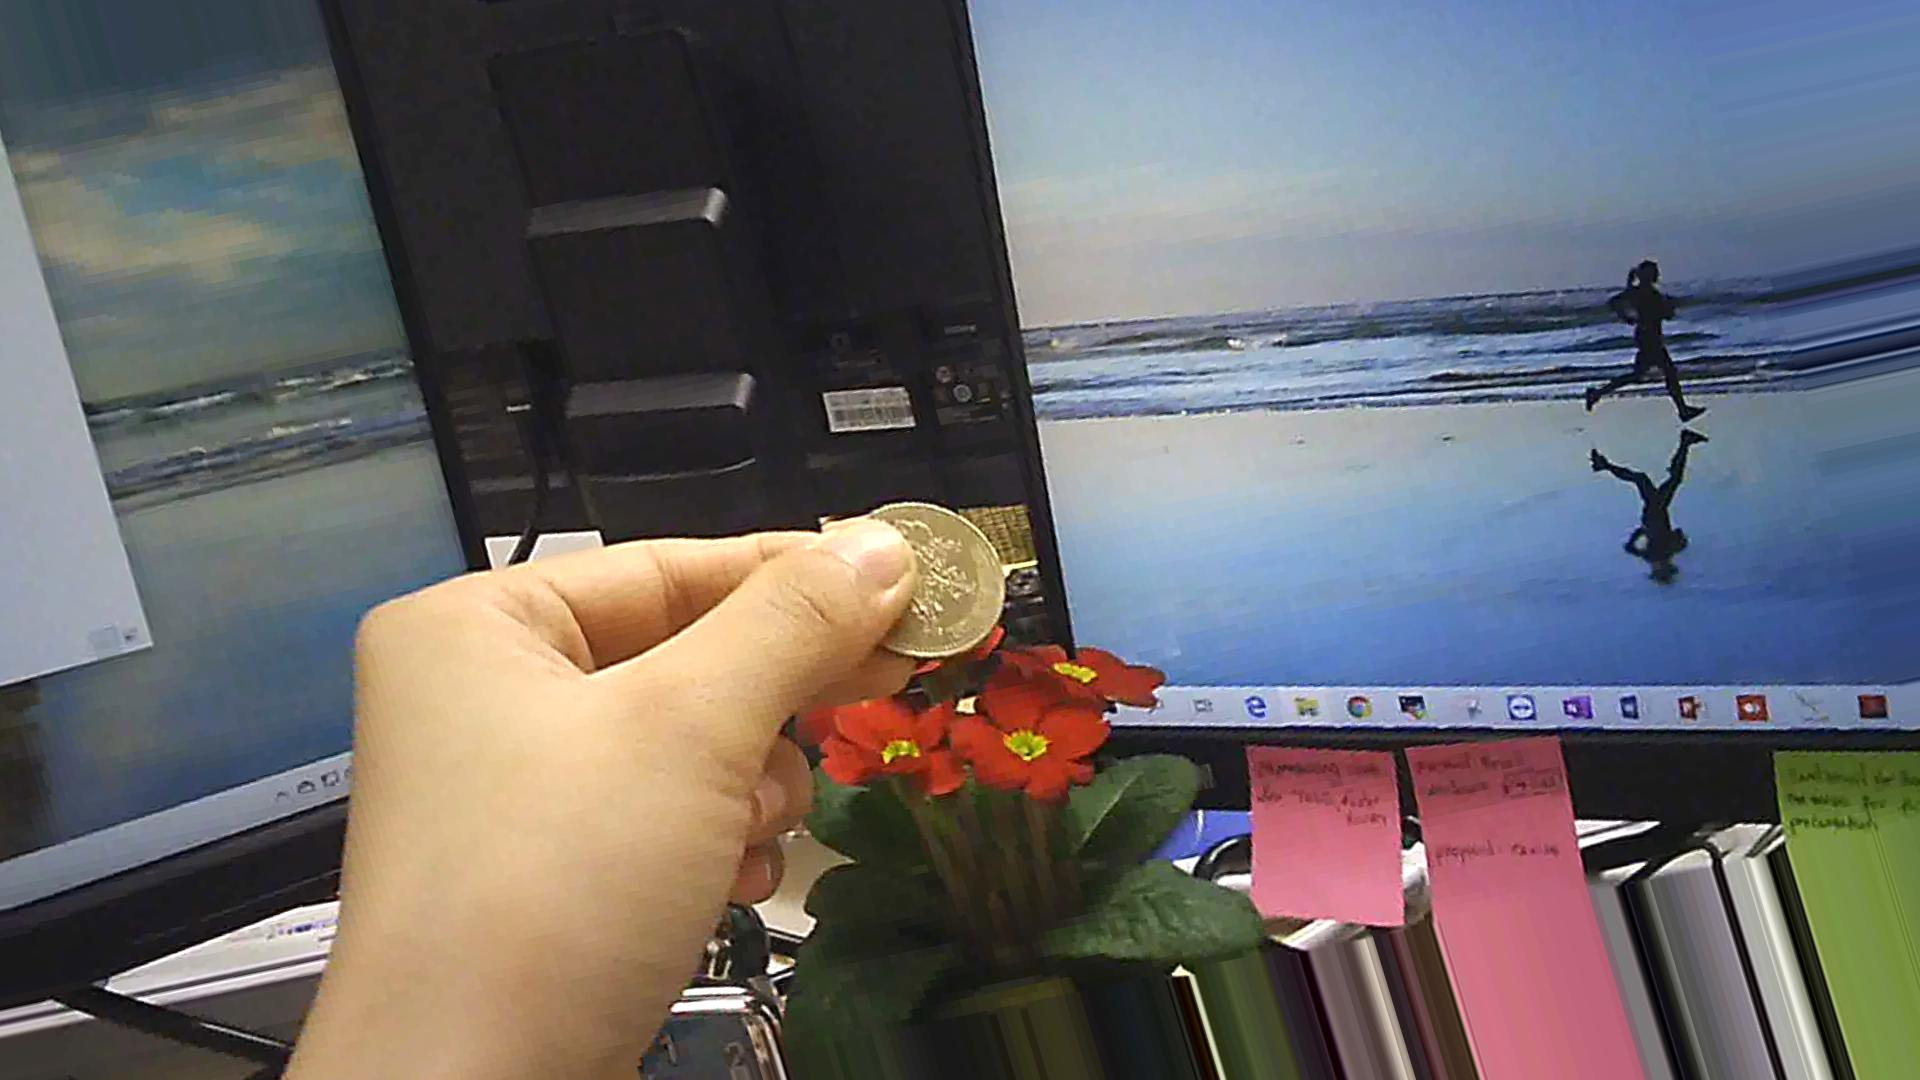500 Yen: (837, 497, 1029, 683)
